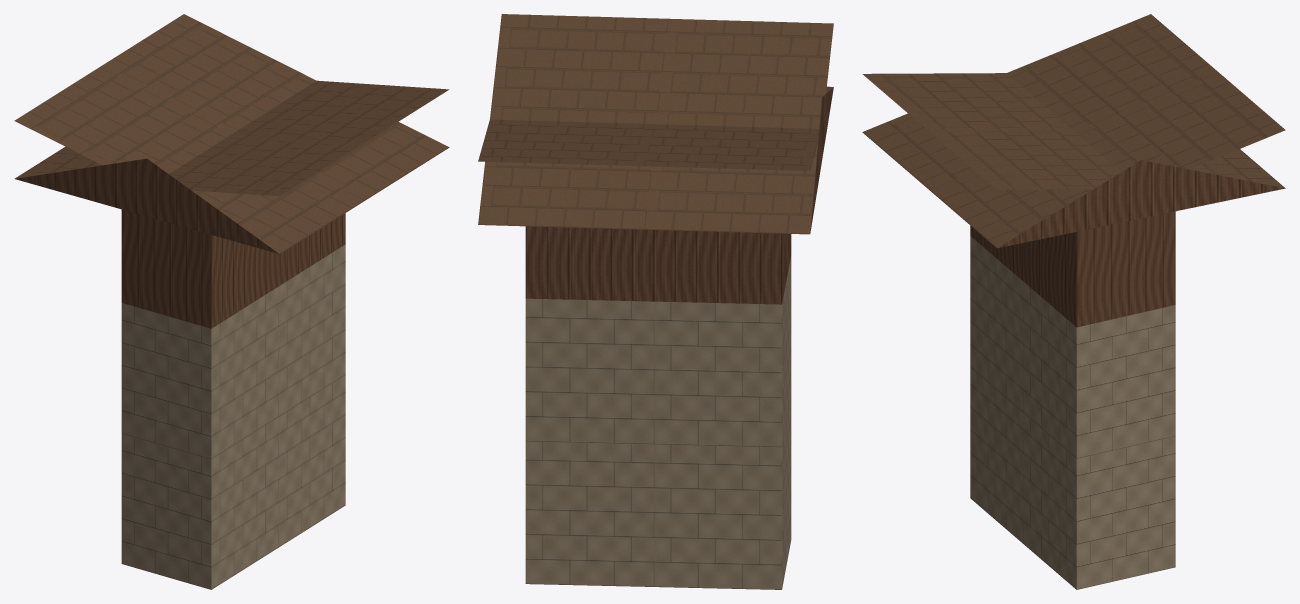
The model's file is bld_c15_23_405.gltf.
3 views of the same model, side by side, from view 1: azimuth 30°, elevation 25°; view 2: azimuth 150°, elevation 25°; view 3: azimuth 270°, elevation 25° (orthographic). The views are drawn at different scales.
Parts seen in each view (by area): view 1: bld_c15_23_405; view 2: bld_c15_23_405; view 3: bld_c15_23_405.
Part boxes in pixels (left/top/right/bottom): bld_c15_23_405: left=14, top=14, right=449, bottom=589; bld_c15_23_405: left=478, top=14, right=833, bottom=589; bld_c15_23_405: left=862, top=14, right=1285, bottom=589.
Bounding box in the file's own units: 6.47 × 7.4 × 6.58.
Materials: 4 (4 with a texture image).
